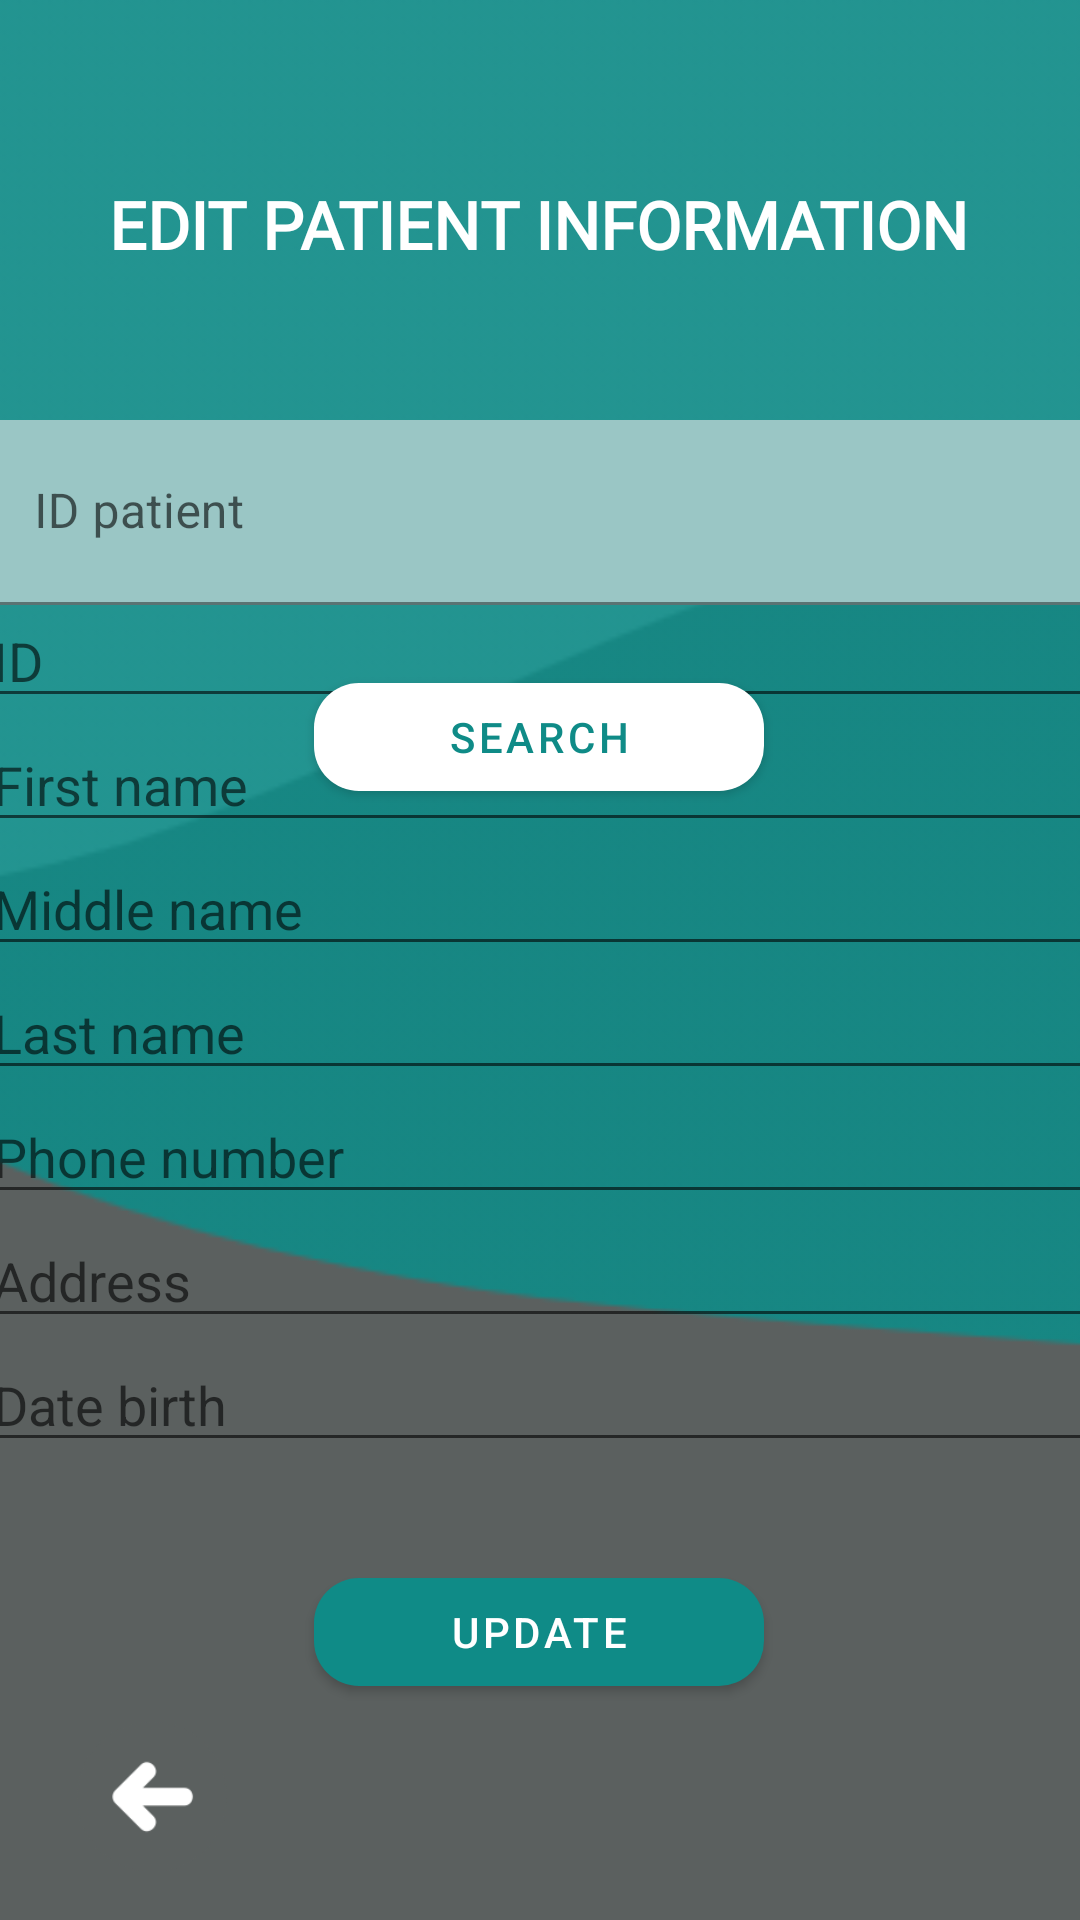

Icons on this 1080 × 1920 Android screen, each with its box as [x1=x1, y1=y1, x2=x2, y2=y2]:
previous: [x1=112, y1=1762, x2=193, y2=1832]
